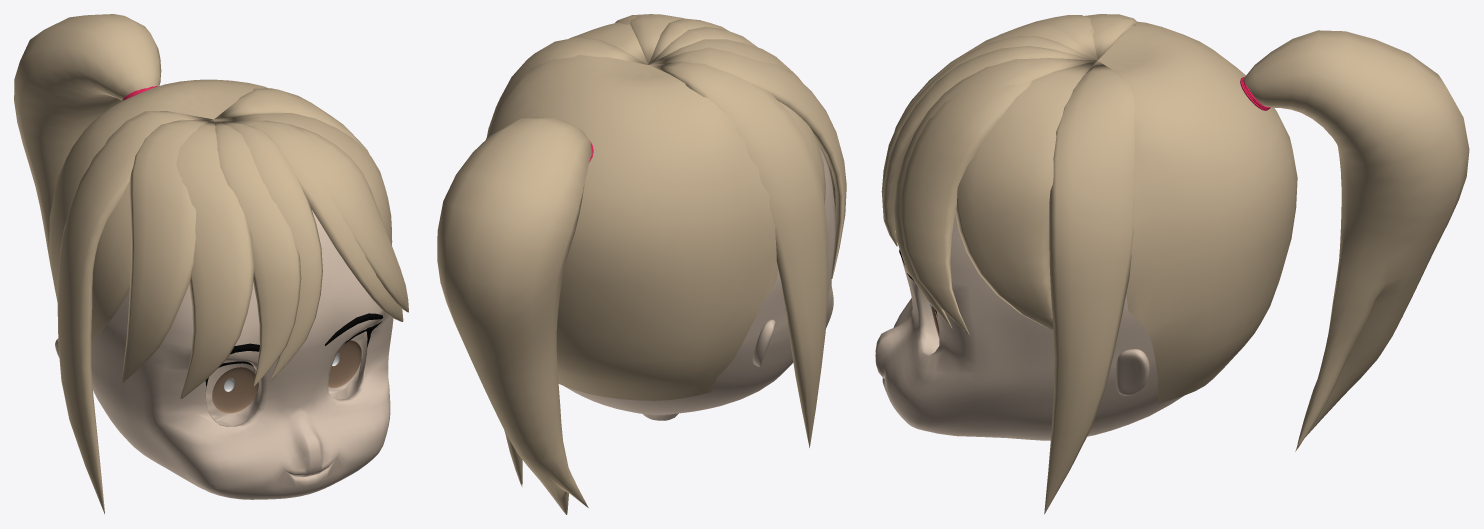
Rendered from Head.fbx.
3 views of the same model, side by side, from view 1: azimuth 30°, elevation 25°; view 2: azimuth 150°, elevation 25°; view 3: azimuth 270°, elevation 25° (orthographic). The views are drawn at different scales.
Visible parts, largest first — view 1: polySurface94; view 2: polySurface94; view 3: polySurface94.
Boxes of the visible parts, bbox=[...] form: polySurface94: bbox=[14, 14, 408, 514]; polySurface94: bbox=[437, 14, 846, 514]; polySurface94: bbox=[875, 14, 1469, 514].
Size of the model in its own units: 84.92 by 97.85 by 127.
